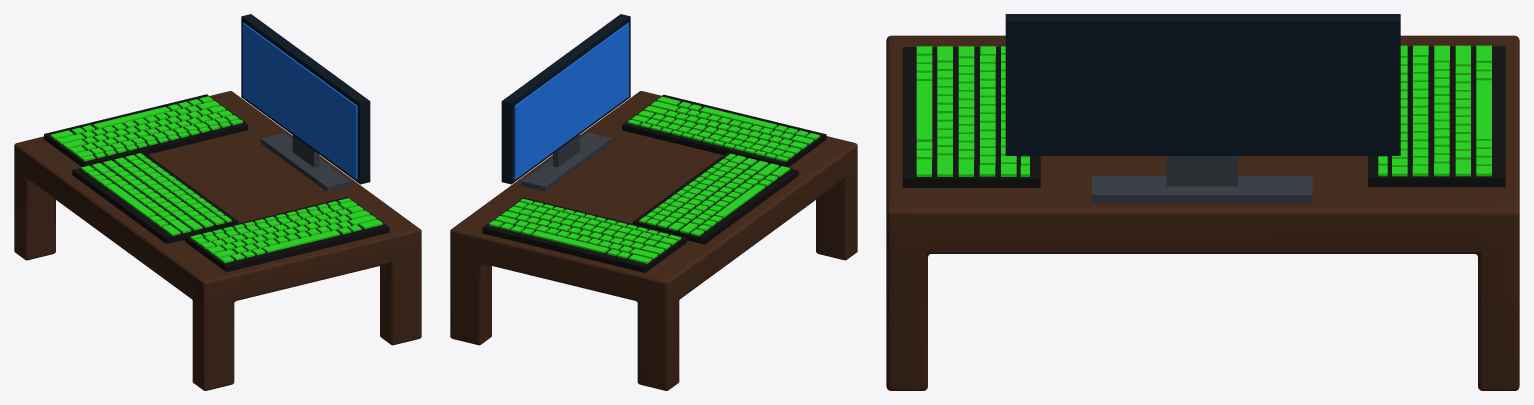
Rendered from computer.glb.
3 views of the same model, side by side, from view 1: azimuth 30°, elevation 25°; view 2: azimuth 150°, elevation 25°; view 3: azimuth 270°, elevation 25° (orthographic). The views are drawn at different scales.
Visible parts, largest first — view 1: Cube.001, Cube.005, Cube.164, Cube, Cube.083, Cube.165, Cube.084, Cube.002; view 2: Cube.001, Cube.005, Cube.083, Cube, Cube.164, Cube.084, Cube.165, Cube.002; view 3: Cube.001, Cube.005, Cube.083, Cube.164, Cube.165, Cube.084.
Boxes of the visible parts, bbox=[...] form: Cube.001: bbox=[14, 91, 421, 390]; Cube.005: bbox=[241, 14, 370, 191]; Cube.164: bbox=[185, 197, 389, 272]; Cube: bbox=[72, 152, 238, 243]; Cube.083: bbox=[44, 94, 248, 166]; Cube.165: bbox=[263, 230, 339, 252]; Cube.084: bbox=[93, 106, 170, 129]; Cube.002: bbox=[106, 183, 155, 217]; Cube.001: bbox=[450, 91, 857, 390]; Cube.005: bbox=[501, 14, 630, 191]; Cube.083: bbox=[482, 197, 686, 272]; Cube: bbox=[632, 153, 798, 244]; Cube.164: bbox=[622, 94, 826, 167]; Cube.084: bbox=[532, 231, 608, 253]; Cube.165: bbox=[700, 107, 776, 129]; Cube.002: bbox=[715, 184, 765, 218]; Cube.001: bbox=[886, 35, 1519, 390]; Cube.005: bbox=[1005, 14, 1400, 202]; Cube.083: bbox=[1368, 46, 1505, 187]; Cube.164: bbox=[902, 47, 1040, 187]; Cube.165: bbox=[916, 81, 932, 141]; Cube.084: bbox=[1476, 80, 1491, 140].
Bounding box in the file's own units: 2.69 × 2.53 × 4.06.
